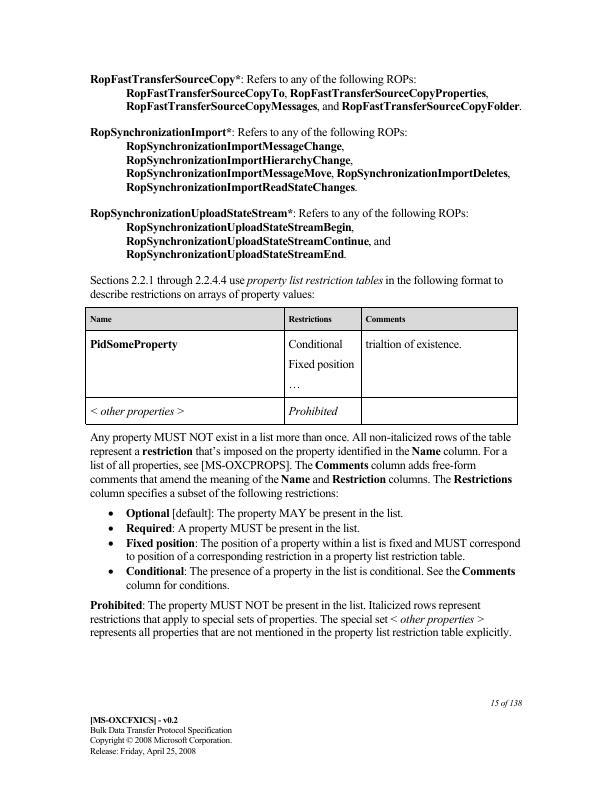table: (81, 303, 523, 427)
text: (87, 126, 515, 197), (87, 432, 515, 502), (88, 205, 472, 262), (86, 71, 524, 116), (87, 598, 514, 640), (88, 272, 506, 303), (122, 565, 519, 594), (123, 536, 521, 564), (86, 712, 234, 758), (123, 505, 403, 522), (121, 522, 363, 536), (486, 696, 525, 708)
